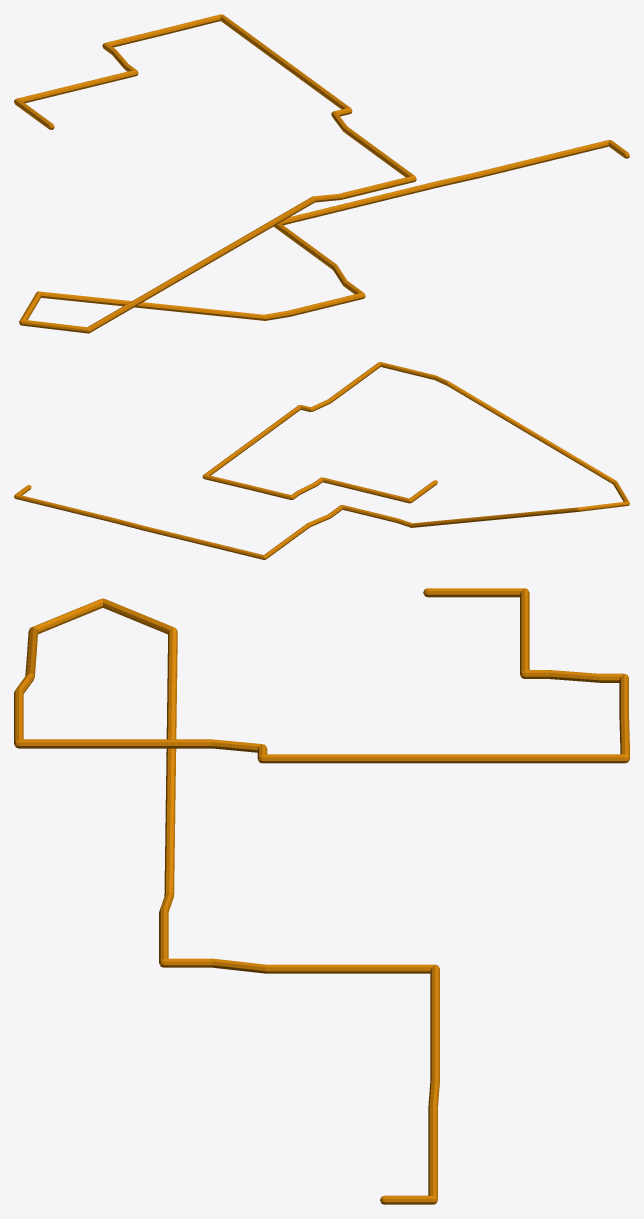
3 views of the same model, one above another, from view 1: azimuth 30°, elevation 25°; view 2: azimuth 150°, elevation 25°; view 3: azimuth 270°, elevation 25° (orthographic). The views are drawn at different scales.
Size of the model in its own units: 2406 by 520 by 1274.
